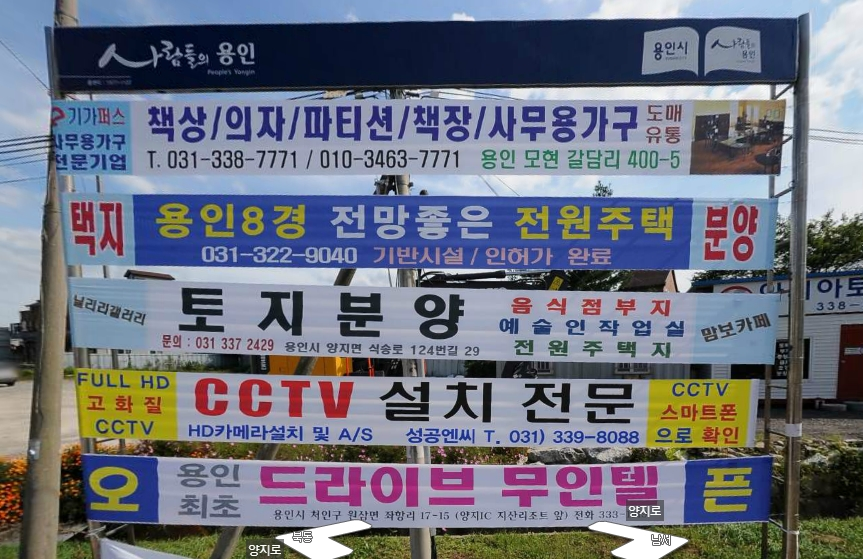banner: (29, 272, 808, 383), (32, 171, 817, 279), (37, 85, 820, 193), (70, 444, 807, 541), (54, 368, 820, 447)
